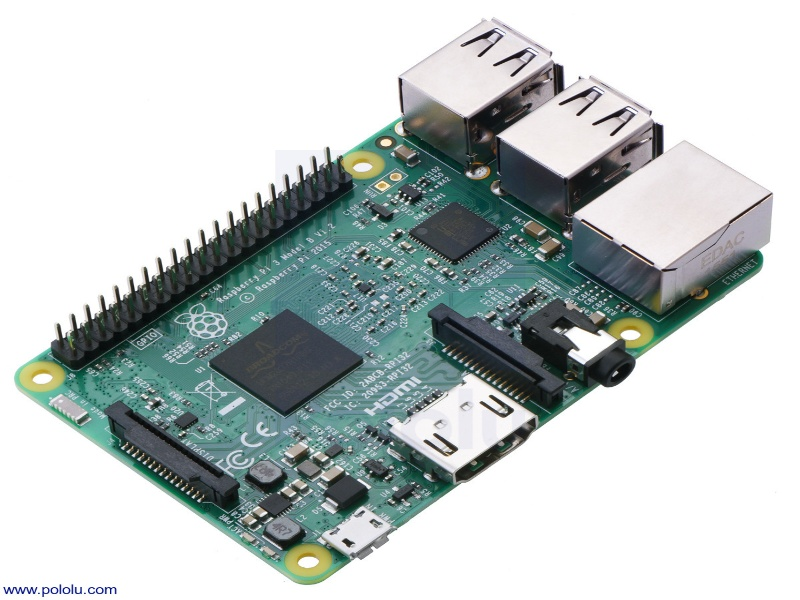raspberrypi: (49, 22, 734, 520)
